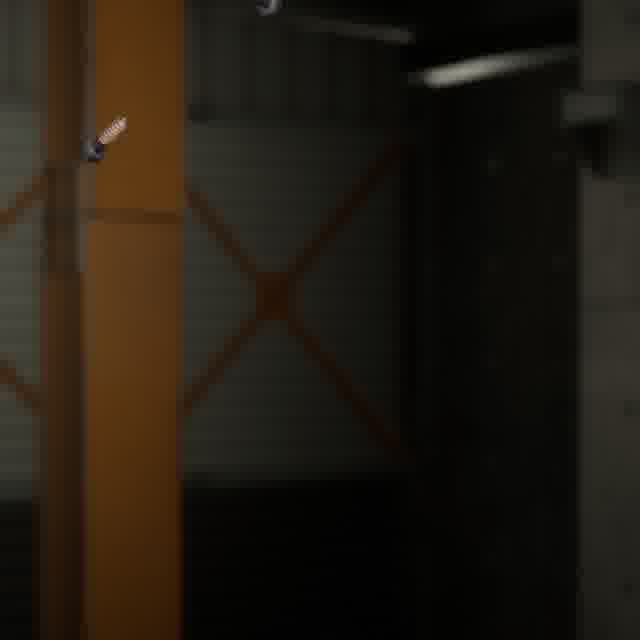bolt: (74, 111, 132, 167), (239, 0, 287, 22)
